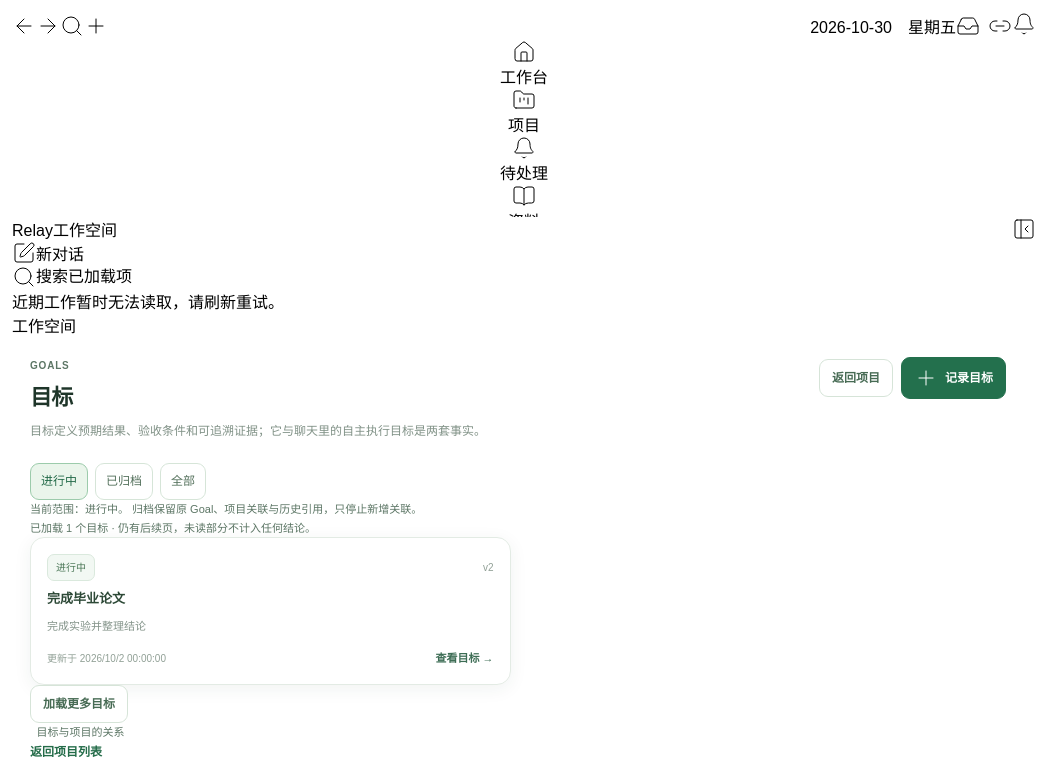
Test: 正式 Goal 列表 › 续页明确失权时撤下已读目标，不把前页当当前事实
Click the button with test id "goal-list-more": x=79, y=704 [30,684,128,723]
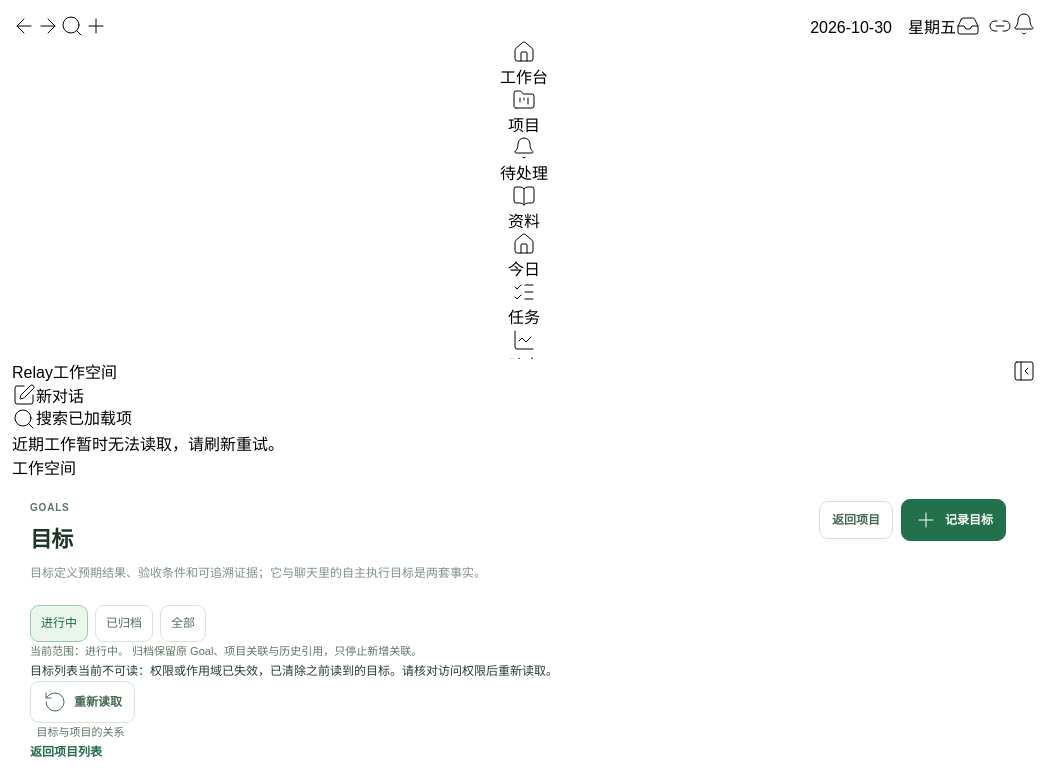
Expected: the text "已清除之前读到的目标" is shown, [30,664,558,678]
